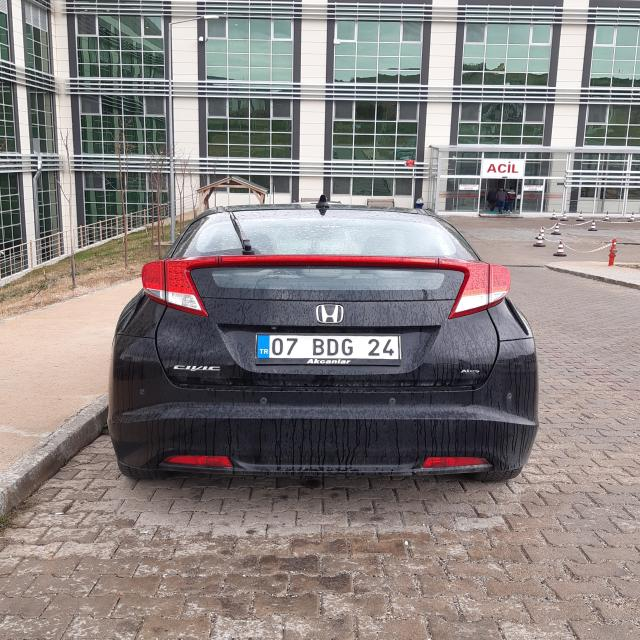license_plate: (256, 334, 400, 361)
